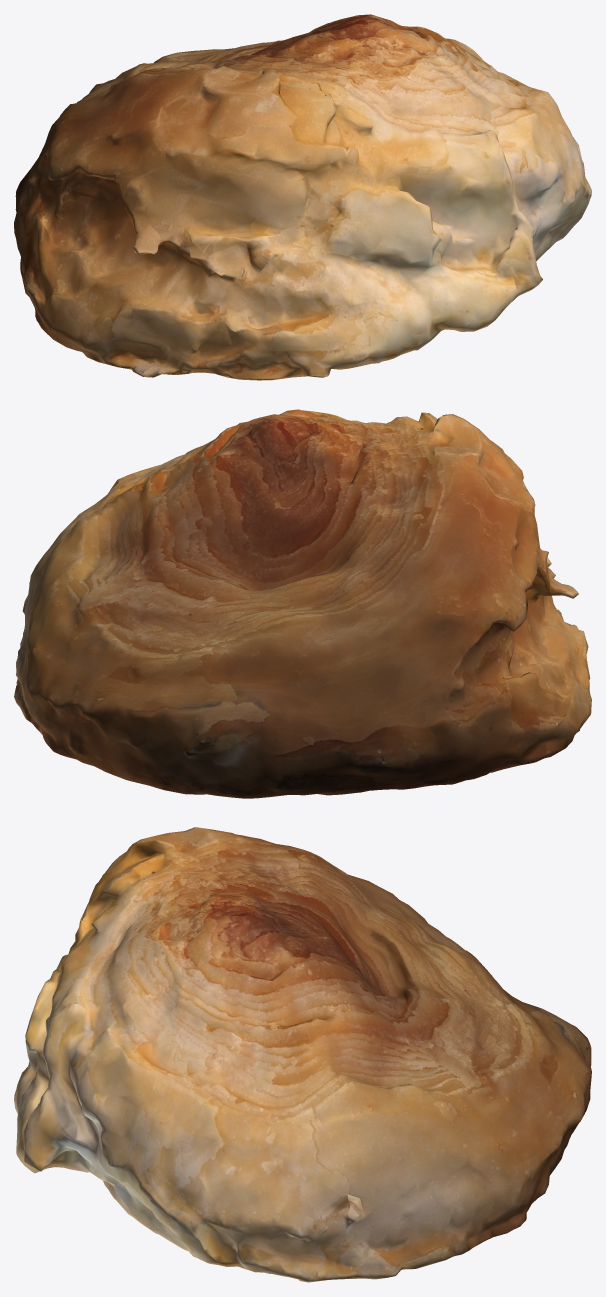
File: булка1.glb
3 views of the same model, one above another, from view 1: azimuth 30°, elevation 25°; view 2: azimuth 150°, elevation 25°; view 3: azimuth 270°, elevation 25° (orthographic). The views are drawn at different scales.
Parts seen in each view (by area): view 1: 3DModel_LowPoly.001; view 2: 3DModel_LowPoly.001; view 3: 3DModel_LowPoly.001.
Part boxes in pixels (x1,y1,x2,y2): 3DModel_LowPoly.001: (14, 14, 591, 380); 3DModel_LowPoly.001: (14, 409, 591, 798); 3DModel_LowPoly.001: (14, 827, 591, 1282).
Bounding box in the file's own units: 1.06 × 0.5254 × 0.969.
Materials: 1 (1 with a texture image).
